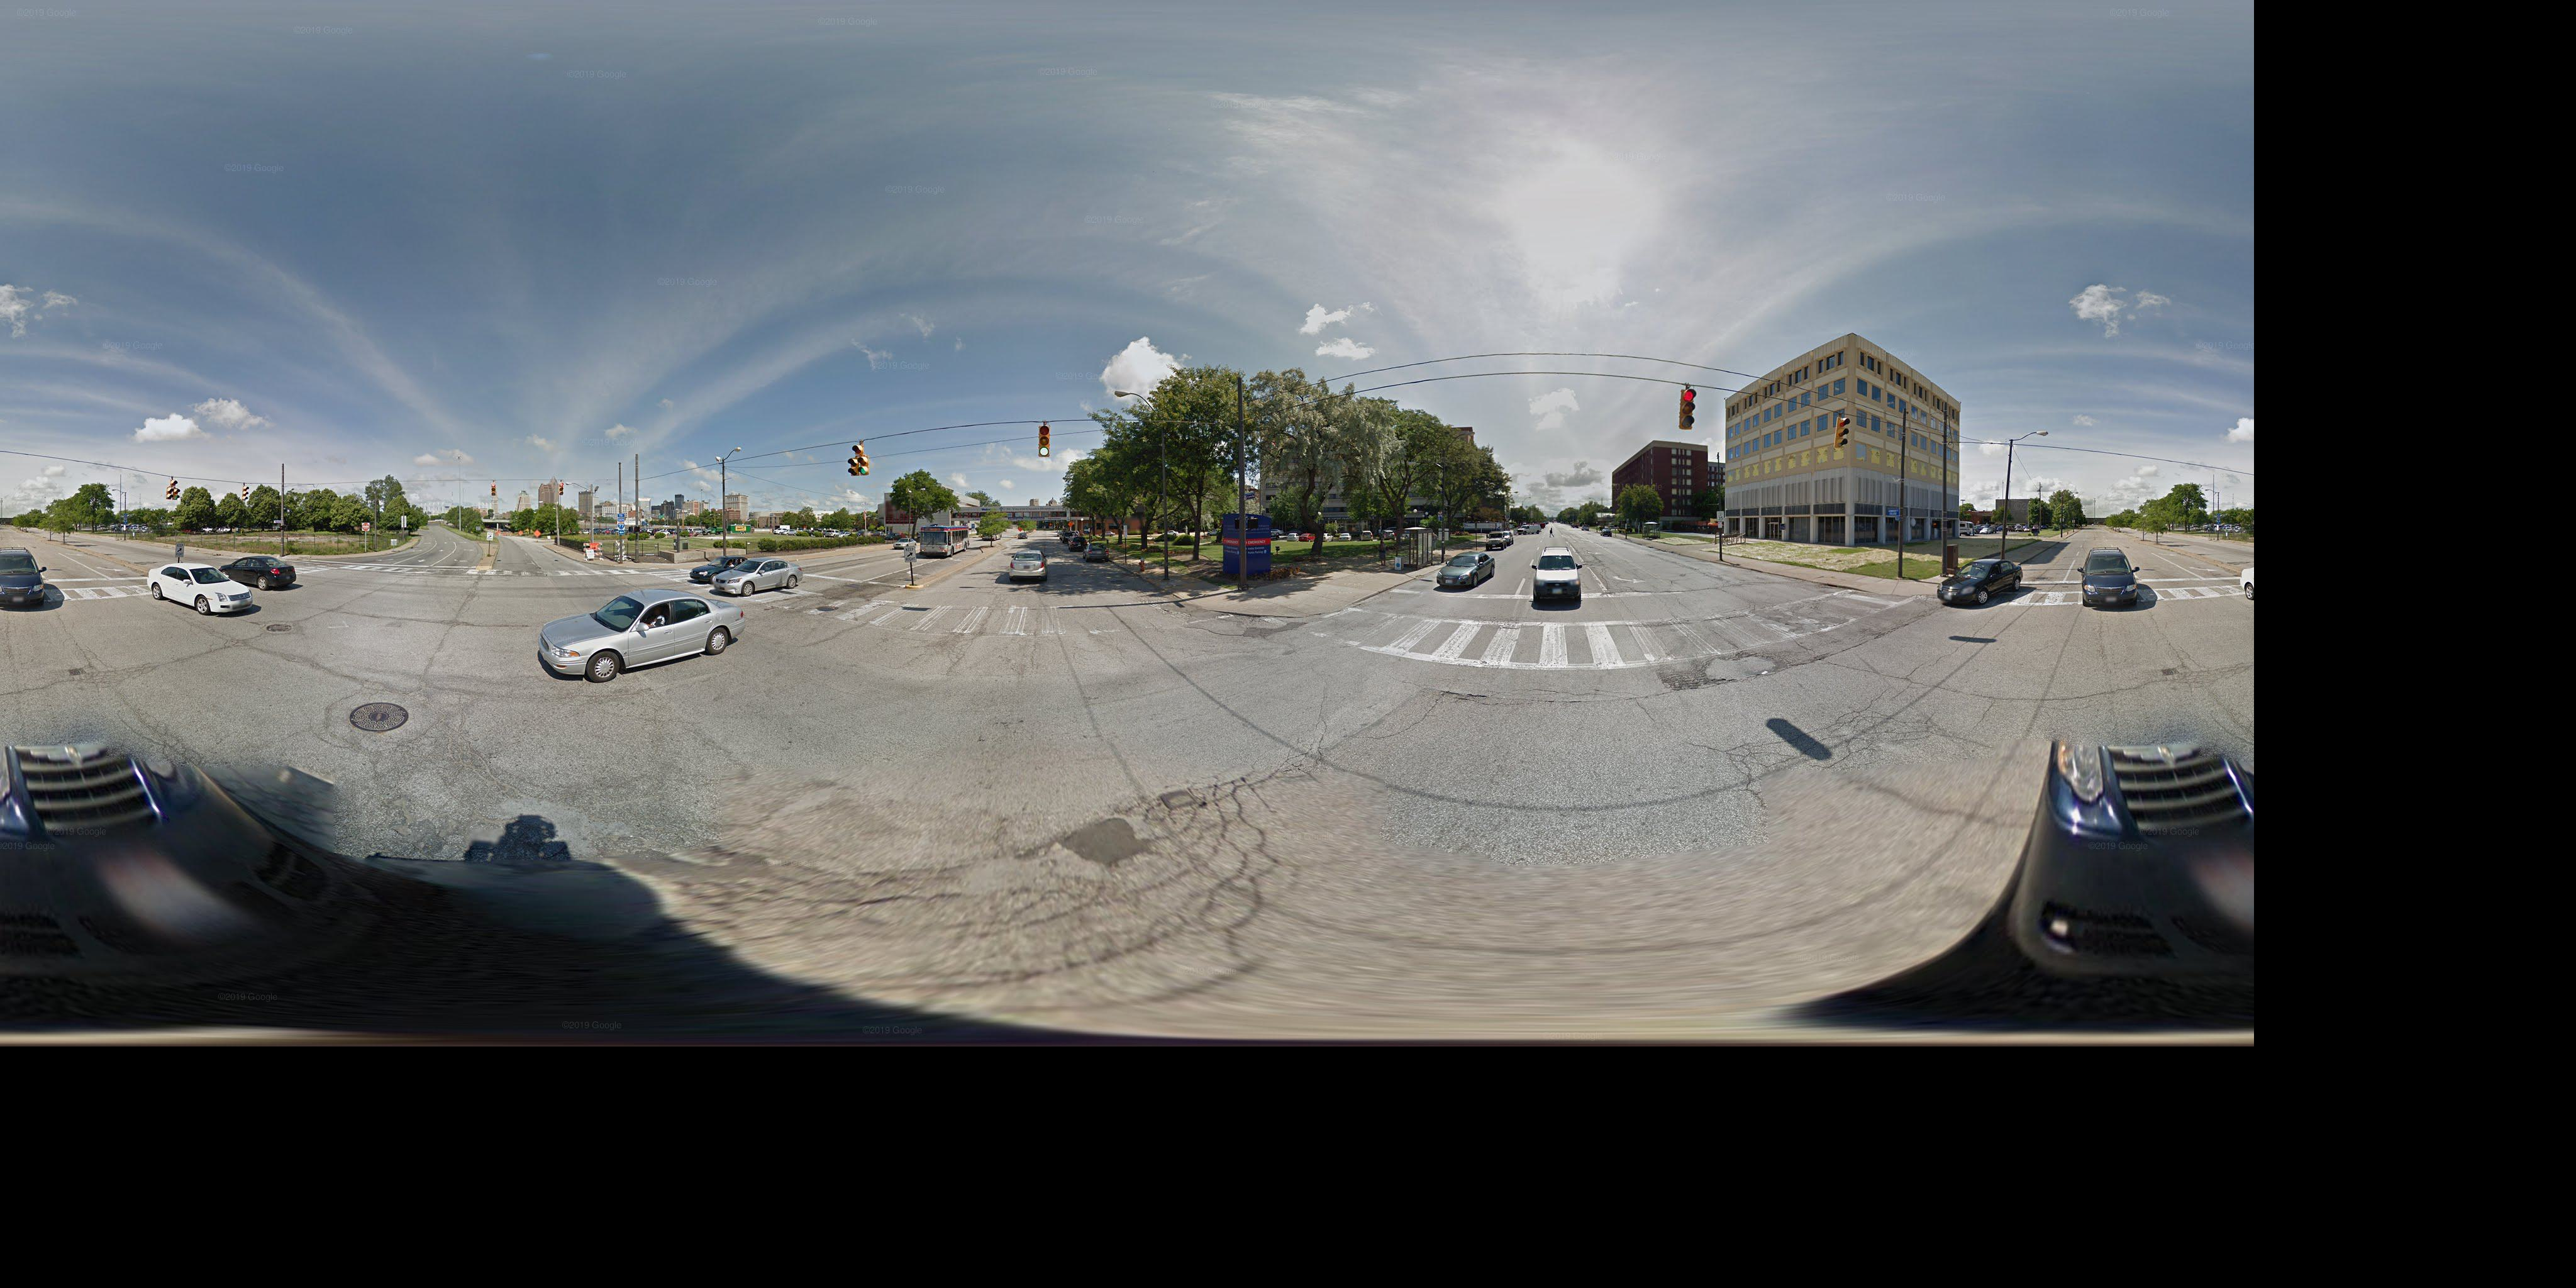Curb Ramp: (1283, 601, 1359, 626), (1861, 577, 1920, 606), (639, 559, 677, 572)
Irregular Ramp: (1178, 588, 1230, 619)
